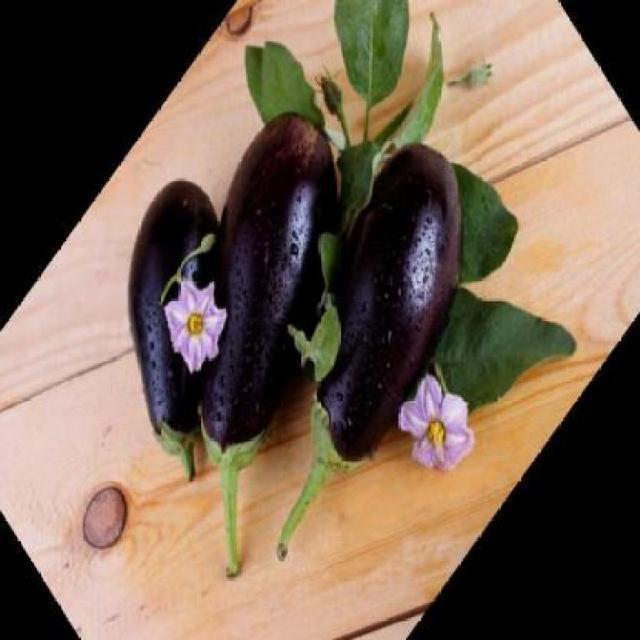eggplant: (205, 112, 344, 572), (124, 177, 296, 485), (316, 143, 464, 492)
